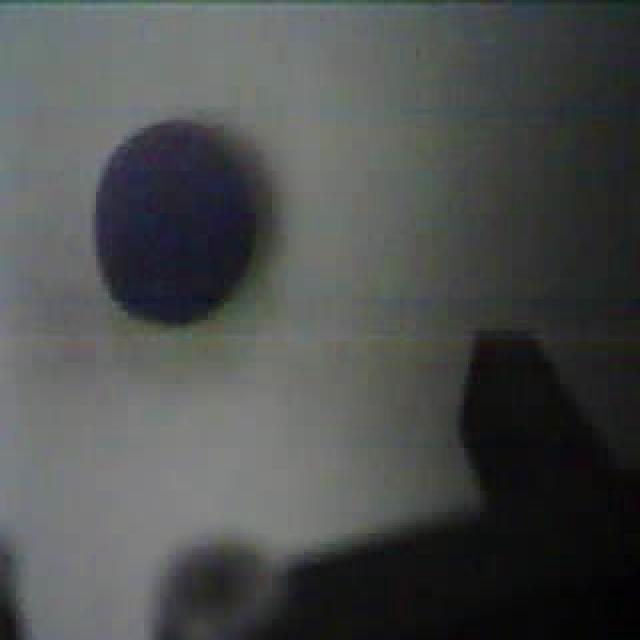blue_ball: (90, 112, 266, 328)
